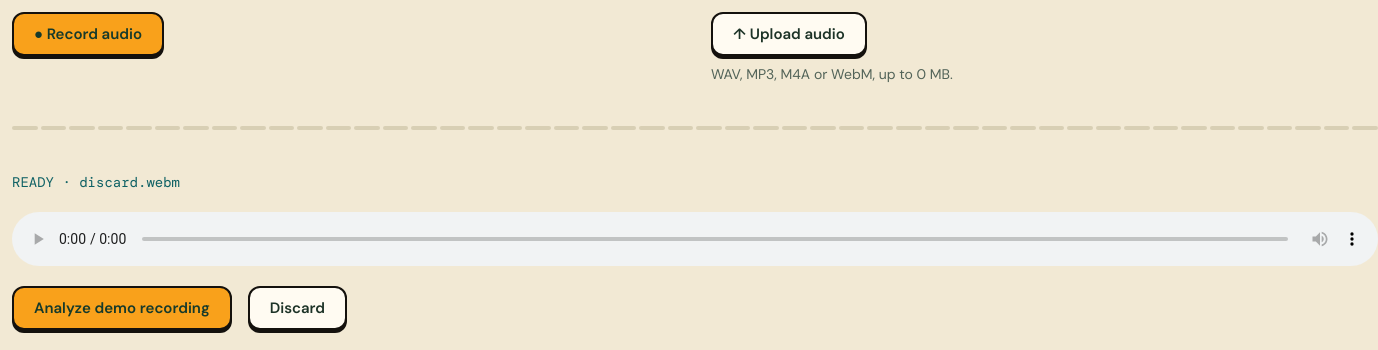
Test: RecorderUploader › clears a selected file, preview, and filename when discarded
Earlier steps of the test are not shown.
Expected: the text "READY · discard.webm" is shown, left=12, top=172, right=180, bottom=192
Click the button "Discard" at (297,308), box left=248, top=286, right=347, bottom=330
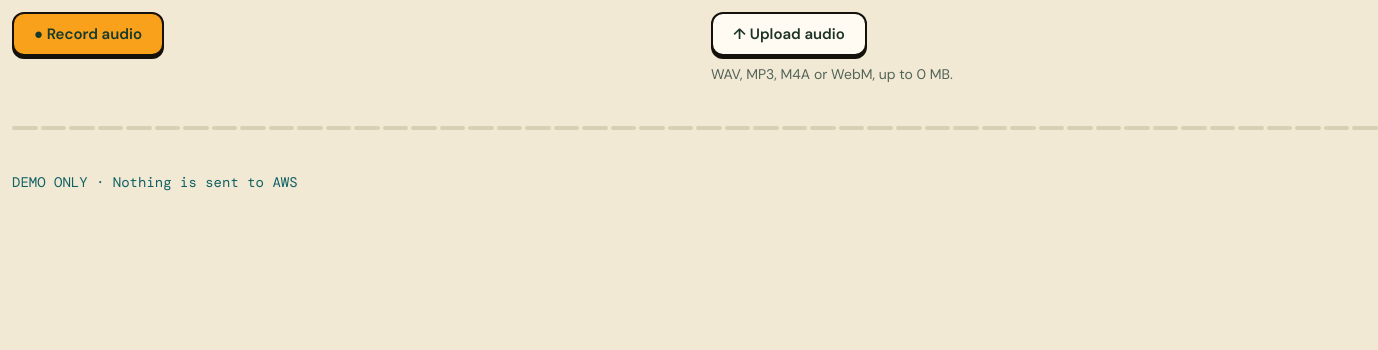
Expected: the text "DEMO ONLY · Nothing is sent to AWS" is shown, left=12, top=172, right=298, bottom=192
Expected: the button "Analyze demo recording" is gone
